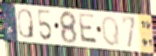5: (36, 9, 53, 43)
7: (121, 15, 137, 51)
8: (58, 10, 80, 46)
E: (78, 12, 99, 47)
Q: (101, 15, 121, 48), (16, 7, 36, 40)
